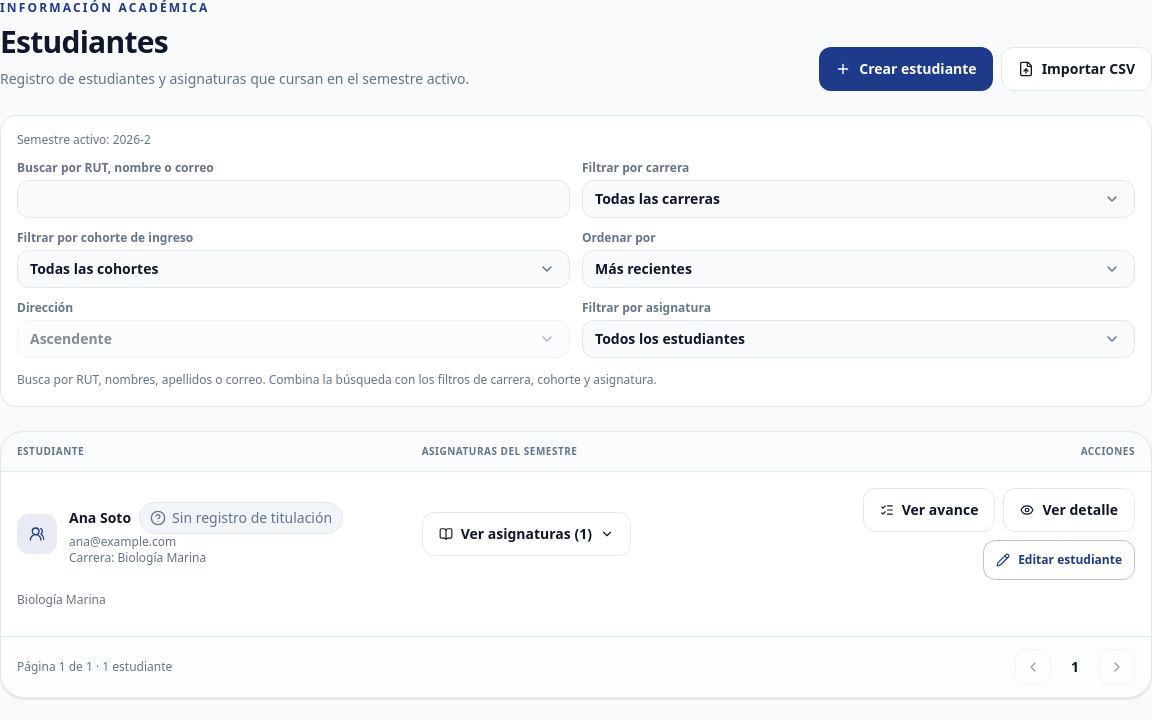
Estudiantes › muestra los datos del padrón en el detalle sin exponer las matrículas
This screenshot has width=1152, height=720.
Click the button with aria-label "Ver detalle de Ana Soto".
click(1069, 510)  # box [1003,488,1135,532]
(page scrolled)
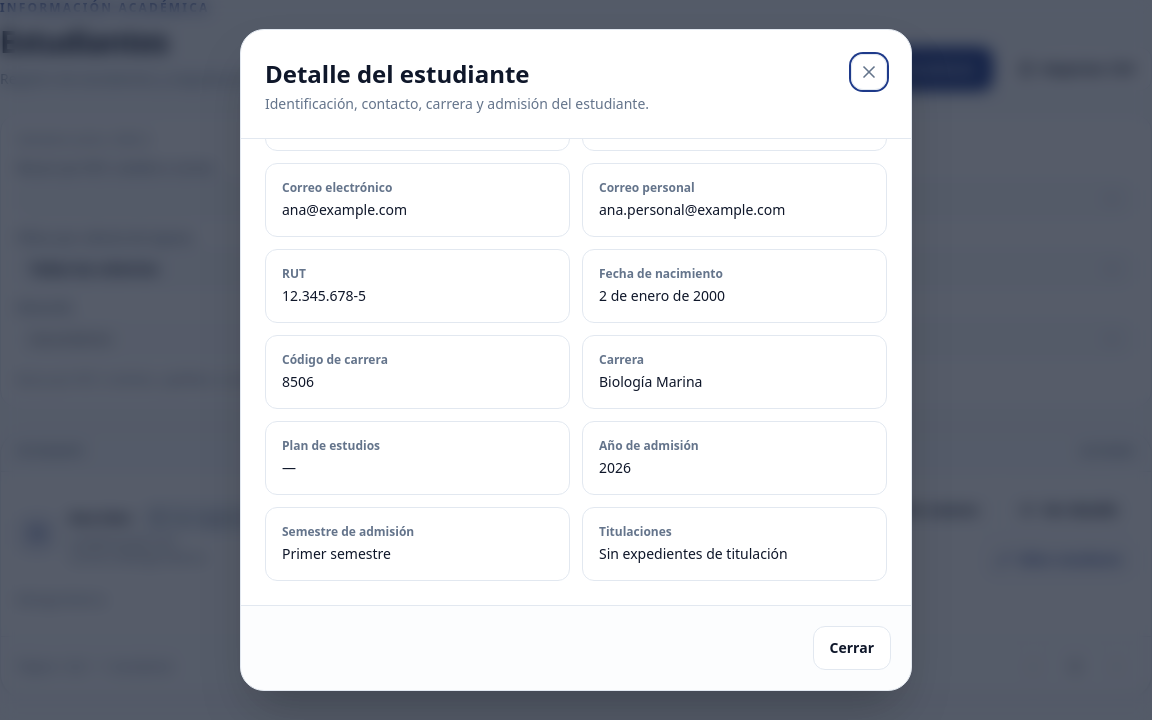
Check: the text "ana@example.com" is shown, box [282,200,407,219]
Check: the text "12.345.678-5" is shown, box [282,286,366,305]
Check: the text "ana.personal@example.com" is shown, box [599,200,785,219]
